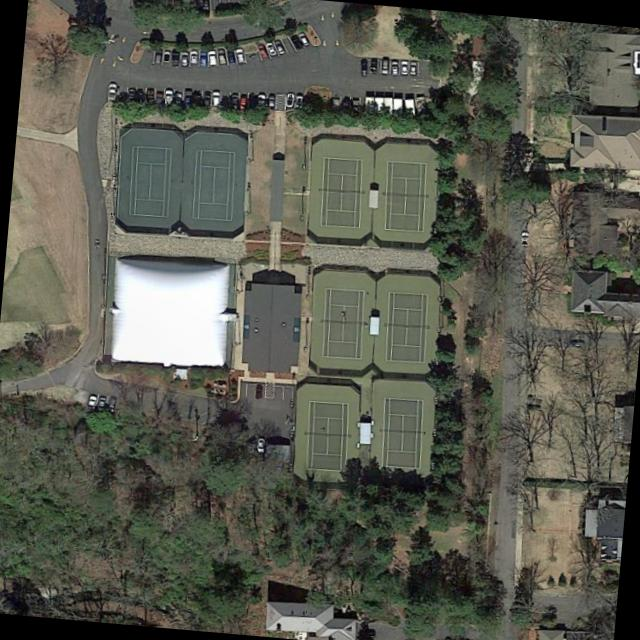large-vehicle: (413, 95, 431, 128), (401, 97, 417, 128), (358, 96, 372, 128), (370, 96, 382, 131), (380, 96, 392, 129), (391, 97, 401, 127)
small-vehicle: (83, 392, 97, 411), (289, 33, 302, 49), (296, 30, 309, 46), (328, 96, 339, 114), (272, 38, 284, 54), (339, 96, 349, 115), (106, 393, 116, 412), (94, 393, 105, 410), (263, 41, 276, 55), (255, 43, 267, 58), (227, 91, 237, 109), (233, 47, 244, 63), (517, 230, 528, 246), (181, 87, 191, 104), (191, 88, 200, 106), (349, 97, 358, 115), (238, 92, 247, 110), (105, 82, 114, 100), (206, 48, 216, 64), (283, 91, 293, 107), (255, 92, 265, 108), (171, 88, 181, 104), (153, 88, 163, 104), (162, 88, 171, 105), (134, 87, 144, 102), (188, 49, 197, 65), (197, 49, 205, 67), (216, 47, 225, 63), (368, 57, 377, 73), (389, 59, 398, 75), (292, 91, 301, 107), (224, 48, 234, 62), (170, 48, 178, 65), (178, 50, 187, 65), (378, 59, 387, 74), (209, 90, 218, 105), (359, 58, 366, 76), (407, 60, 416, 74), (125, 87, 134, 101), (253, 384, 262, 398), (152, 48, 160, 63), (160, 49, 170, 61), (201, 90, 209, 104), (398, 60, 406, 74), (256, 437, 263, 452), (199, 0, 210, 9), (145, 87, 152, 101), (266, 92, 273, 106)
